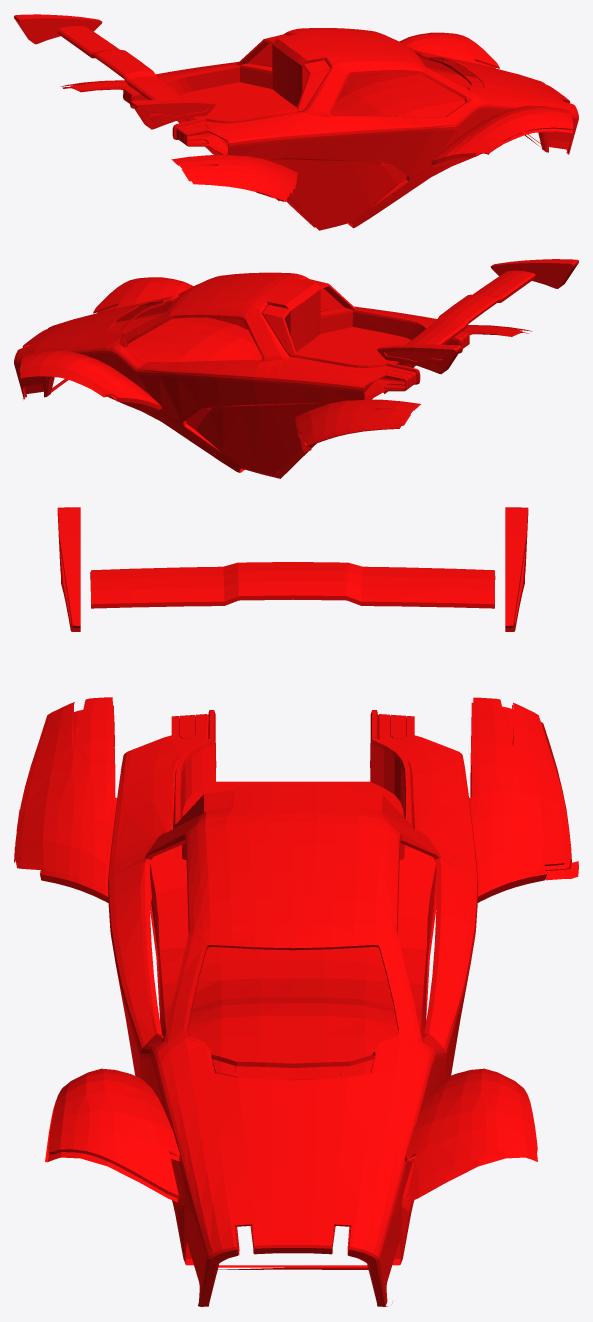
Rendered from ParteVermelha.obj.
The picture shows the model from 3 angles, top to bottom: view 1: azimuth 30°, elevation 25°; view 2: azimuth 150°, elevation 25°; view 3: azimuth 270°, elevation 25°; orthographic projection. The views are drawn at different scales.
Parts seen in each view (by area): view 1: ParteVermelha; view 2: ParteVermelha; view 3: ParteVermelha.
Boxes of the visible parts, x1,y1,x2,y2 form: ParteVermelha: [14, 14, 578, 230]; ParteVermelha: [14, 259, 578, 478]; ParteVermelha: [14, 507, 578, 1306].
Size of the model in its own units: 0.3532 by 0.1384 by 0.1868.
